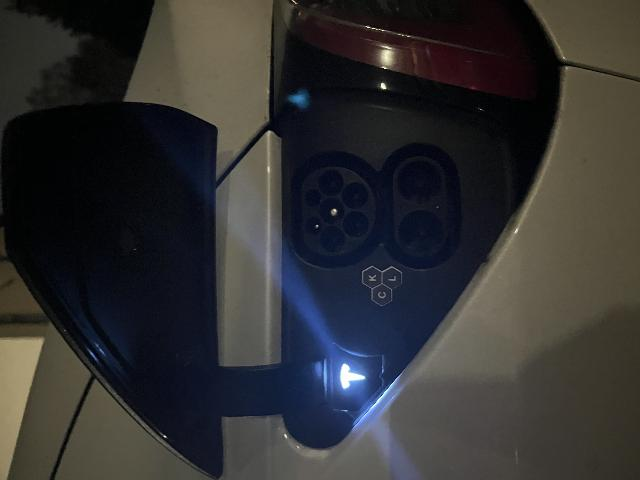inlet: (224, 302, 313, 375)
inlet-above-left: (244, 305, 263, 322)
inlet-above-right: (272, 305, 291, 321)
inlet-below-left: (243, 342, 269, 369)
inlet-below-right: (271, 342, 297, 368)
inlet-circle: (255, 319, 282, 344)
inlet-circle-left: (228, 319, 254, 345)
inlet-circle-right: (284, 318, 310, 343)
inlet-minus: (276, 397, 319, 441)
inlet-plus: (227, 398, 270, 443)
